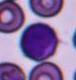L: (20, 22, 59, 62)
